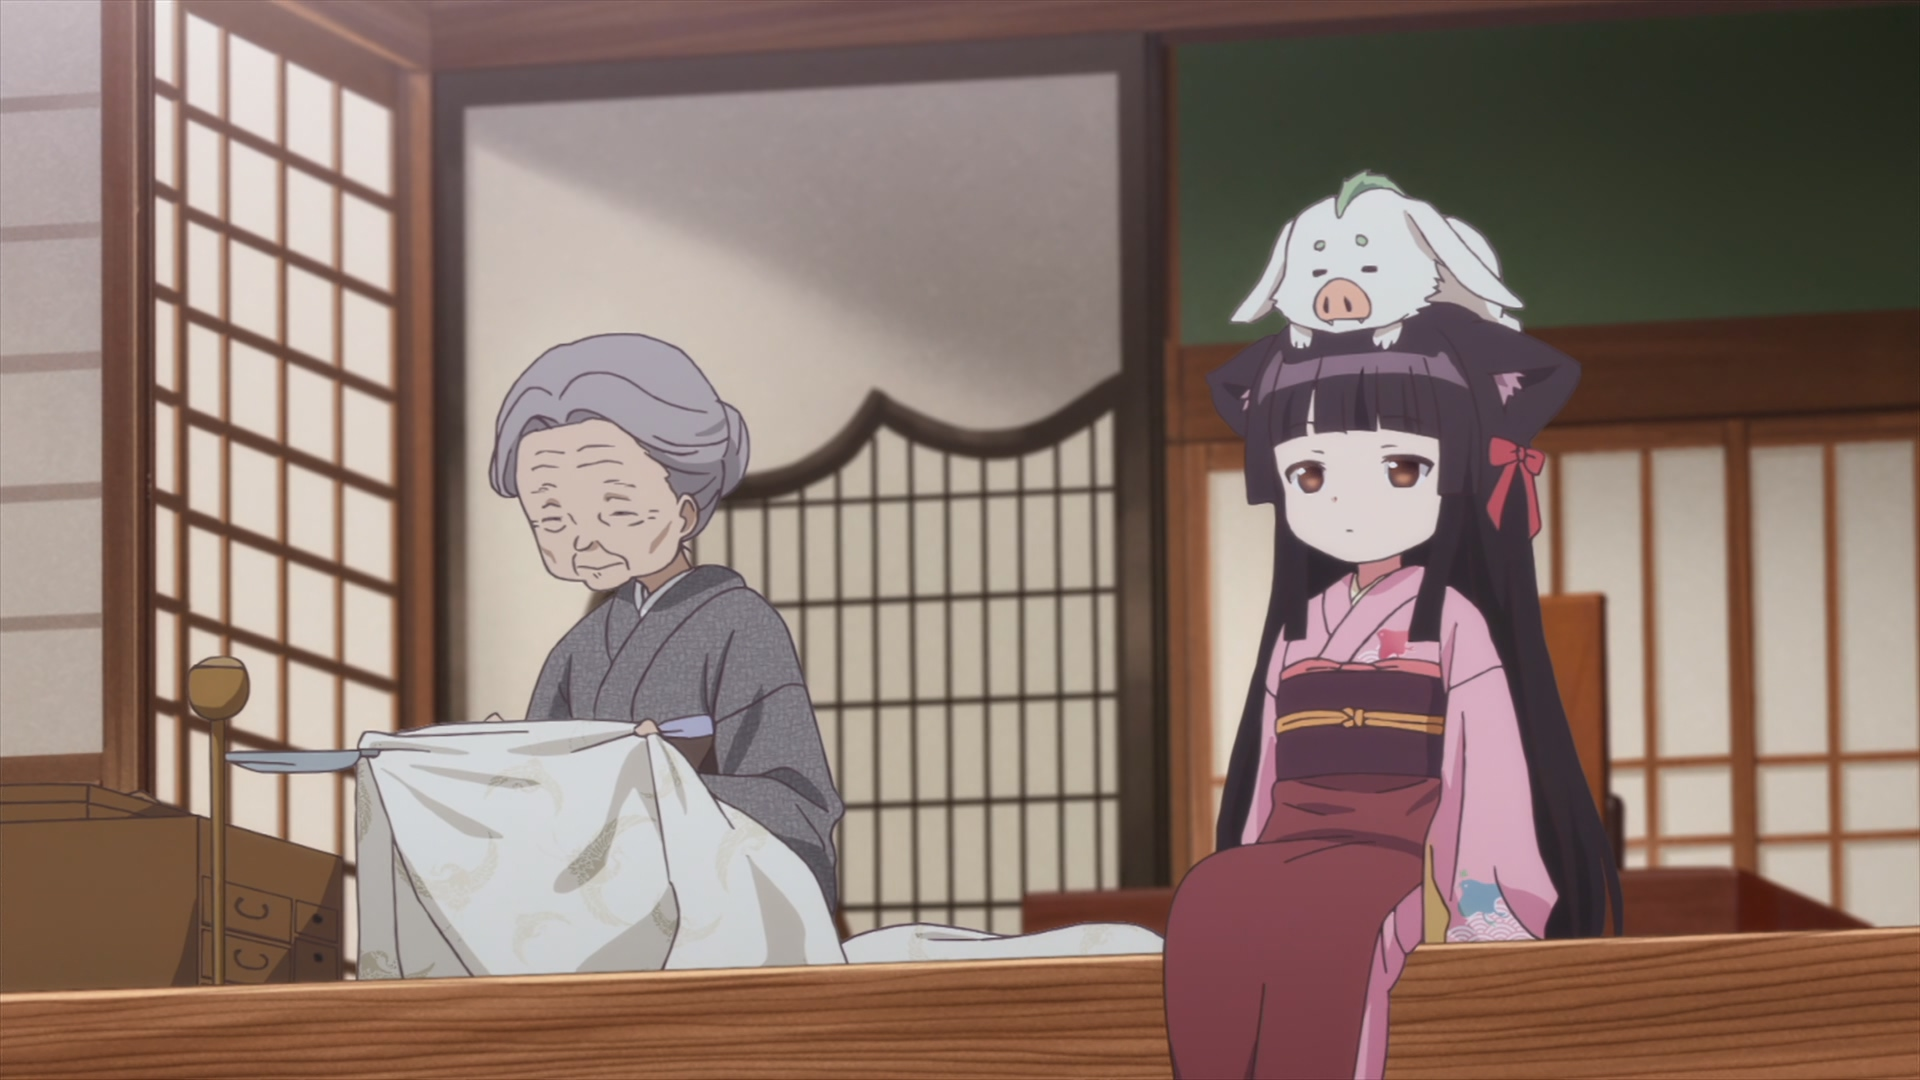其他: (488, 335, 845, 928)
樱: (1162, 305, 1623, 1080)
瓜之介: (1234, 171, 1518, 355)
